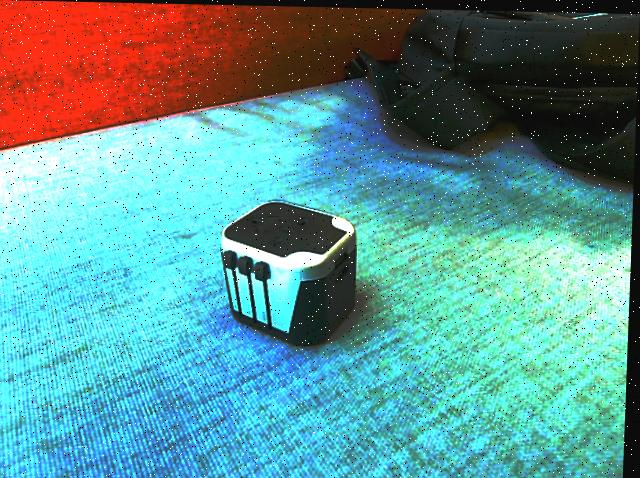adapter: (218, 197, 361, 345)
